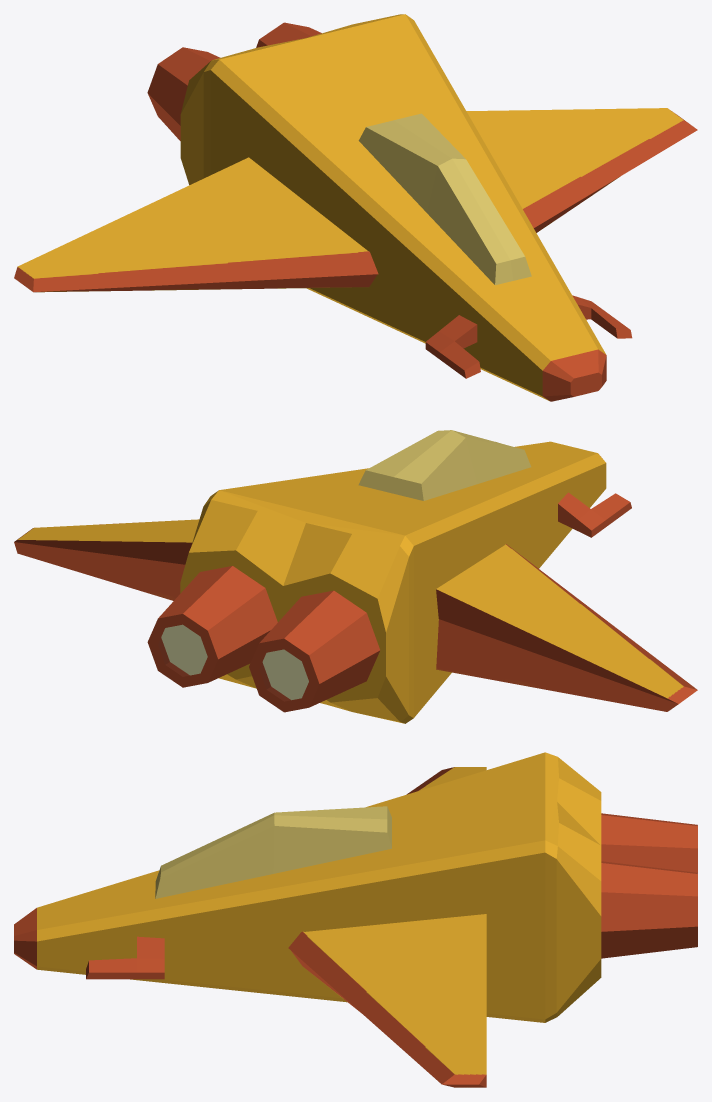
Rendered from nave_inimiga.glb.
The picture shows the model from 3 angles, top to bottom: view 1: azimuth 30°, elevation 25°; view 2: azimuth 150°, elevation 25°; view 3: azimuth 270°, elevation 25°; orthographic projection. The views are drawn at different scales.
Visible parts, largest first — view 1: nave-inimiga-2_0; view 2: nave-inimiga-2_0; view 3: nave-inimiga-2_0.
Part boxes in pixels (left/top/right/bottom): nave-inimiga-2_0: left=14, top=14, right=697, bottom=401; nave-inimiga-2_0: left=14, top=430, right=697, bottom=723; nave-inimiga-2_0: left=14, top=752, right=697, bottom=1087.
Size of the model in its own units: 9.33 by 2.52 by 8.57.
1 material, 1 textured.
